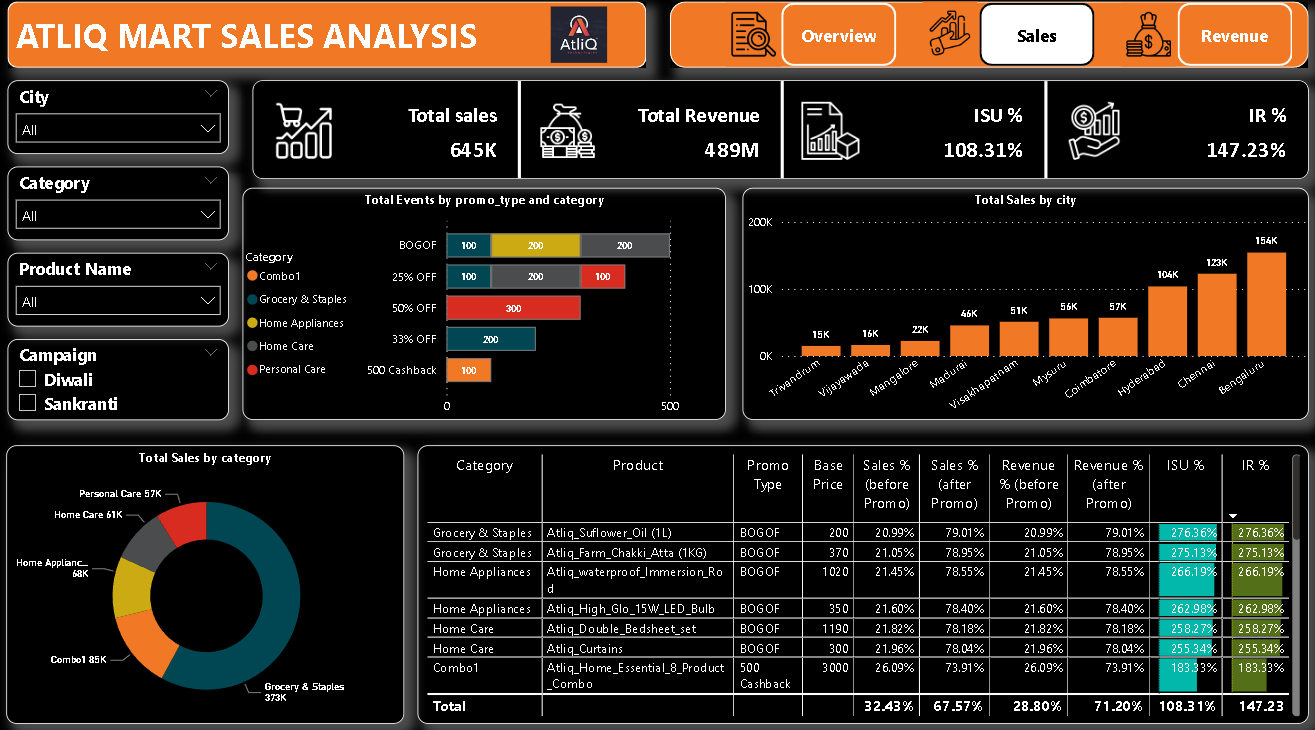

The dashboard page shown, as its layout file describes it:
{"tool":"powerbi","page":{"name":"Sales","canvas":[1280,720],"ordinal":1},"visuals":[{"type":"shape","box":[651.3,12.1,616.3,63.9],"z":0,"group":"g1"},{"type":"columnChart","title":"Total Sales by city","fields":{"Y":["Key Measures.Total sales"],"Category":["dim_stores.city"]},"box":[721.2,191.8,546.3,224.3],"z":0},{"type":"shape","box":[12.1,12.1,616.3,63.9],"z":1000,"group":"g2"},{"type":"donutChart","title":"Total Sales by category","fields":{"Y":["Key Measures.Total sales"],"Category":["dim_products.category"]},"box":[11.4,440,384.3,268.6],"z":1000},{"type":"group","id":"g1","title":"Group 1","box":[651.3,12.1,616.3,63.9],"z":2000},{"type":"pageNavigator","box":[758.6,13.3,494.5,61.5],"z":3000},{"type":"group","id":"g2","title":"Group 2","box":[12.1,12.1,616.3,63.9],"z":4000},{"type":"image","box":[516.2,12.1,94.1,63.9],"z":4000,"group":"g2"},{"type":"slicer","fields":{"Values":["dim_stores.city"]},"box":[12.1,88,213.5,71.2],"z":5000},{"type":"slicer","fields":{"Values":["dim_products.category"]},"box":[12.1,171.3,213.5,71.2],"z":6000},{"type":"image","box":[705.6,13.3,53.1,61.5],"z":7000,"group":"g1"},{"type":"slicer","fields":{"Values":["dim_campaigns.campaign_name"]},"box":[12.1,337.7,213.5,78.4],"z":7000},{"type":"image","box":[1086.7,13.3,53.1,61.5],"z":8000,"group":"g1"},{"type":"slicer","fields":{"Values":["dim_products.product_name"]},"box":[12.1,254.5,213.5,71.2],"z":8000},{"type":"image","box":[894.9,12.1,53.1,61.5],"z":9000,"group":"g1"},{"type":"cardVisual","fields":{"Data":["Key Measures.Total sales","Key Measures.Total Revenue","Key Measures.ISU %","Key Measures.IR %"]},"box":[248.4,88,1019.1,95.3],"z":9000},{"type":"barChart","title":"Total Events by promo_type and category","fields":{"Category":["fact_events.promo_type"],"Series":["dim_products.category"],"Y":["Key Measures.Total Events"]},"box":[238.8,191.8,466.7,224.3],"z":10000},{"type":"tableEx","fields":{"Values":["dim_products.category","dim_products.product_name","fact_events.promo_type","fact_events.base_price","Key Measures.Sales % (before Promo)","Key Measures.Sales % (after Promo)","Key Measures.Revenue % (before Promo)","Key Measures.Revenue % (after Promo)","Key Measures.ISU %","Key Measures.IR %"]},"box":[407.1,440,860,268.6],"z":11000}]}

Visuals, with their boxes in screenshot pixels (x1, y1, x2, y2), scaled from the page's 1280x720 canvas onto the 1315x730 screenshot:
shape: [left=669, top=12, right=1302, bottom=77]
"Total Sales by city" columnChart: [left=741, top=194, right=1302, bottom=422]
shape: [left=12, top=12, right=646, bottom=77]
"Total Sales by category" donutChart: [left=12, top=446, right=407, bottom=718]
"Group 1" group: [left=669, top=12, right=1302, bottom=77]
pageNavigator: [left=779, top=13, right=1287, bottom=76]
"Group 2" group: [left=12, top=12, right=646, bottom=77]
image: [left=530, top=12, right=627, bottom=77]
slicer - dim_stores.city: [left=12, top=89, right=232, bottom=161]
slicer - dim_products.category: [left=12, top=174, right=232, bottom=246]
image: [left=725, top=13, right=779, bottom=76]
slicer - dim_campaigns.campaign_name: [left=12, top=342, right=232, bottom=422]
image: [left=1116, top=13, right=1171, bottom=76]
slicer - dim_products.product_name: [left=12, top=258, right=232, bottom=330]
image: [left=919, top=12, right=974, bottom=75]
cardVisual - Key Measures.Total sales x Key Measures.Total Revenue: [left=255, top=89, right=1302, bottom=186]
"Total Events by promo_type and category" barChart: [left=245, top=194, right=725, bottom=422]
tableEx - dim_products.category x dim_products.product_name: [left=418, top=446, right=1302, bottom=718]
